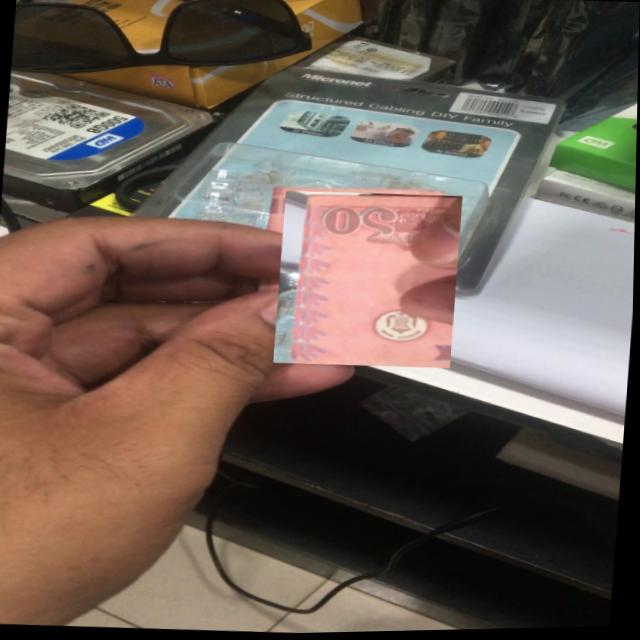Taka: (275, 189, 464, 374)
